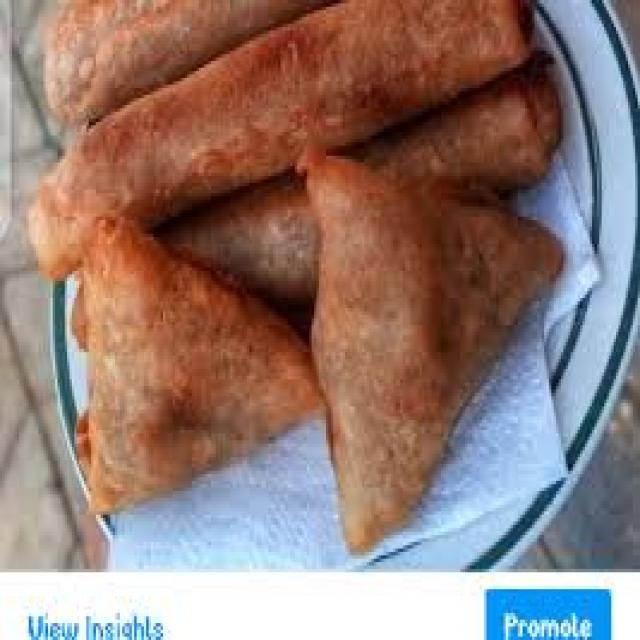Samosa: (77, 156, 570, 555)
Spring Rolls: (17, 0, 551, 207)
